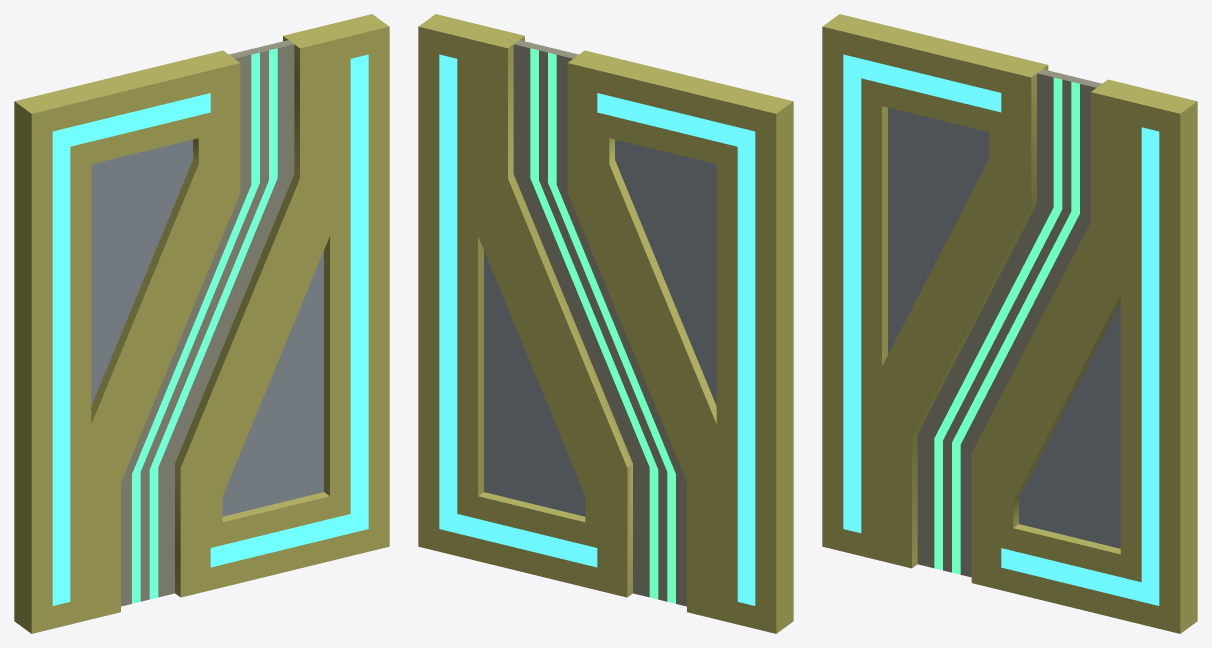
Rendered from Door.fbx.
3 views of the same model, side by side, from view 1: azimuth 30°, elevation 25°; view 2: azimuth 150°, elevation 25°; view 3: azimuth 330°, elevation 25° (orthographic).
Parts seen in each view (by area): view 1: Door; view 2: Door; view 3: Door.
Part boxes in pixels (box(x1,y1,x2,y2)): Door: box(14, 14, 389, 633); Door: box(418, 14, 793, 633); Door: box(822, 14, 1197, 633).
Size of the model in its own units: 180 by 250 by 15.
